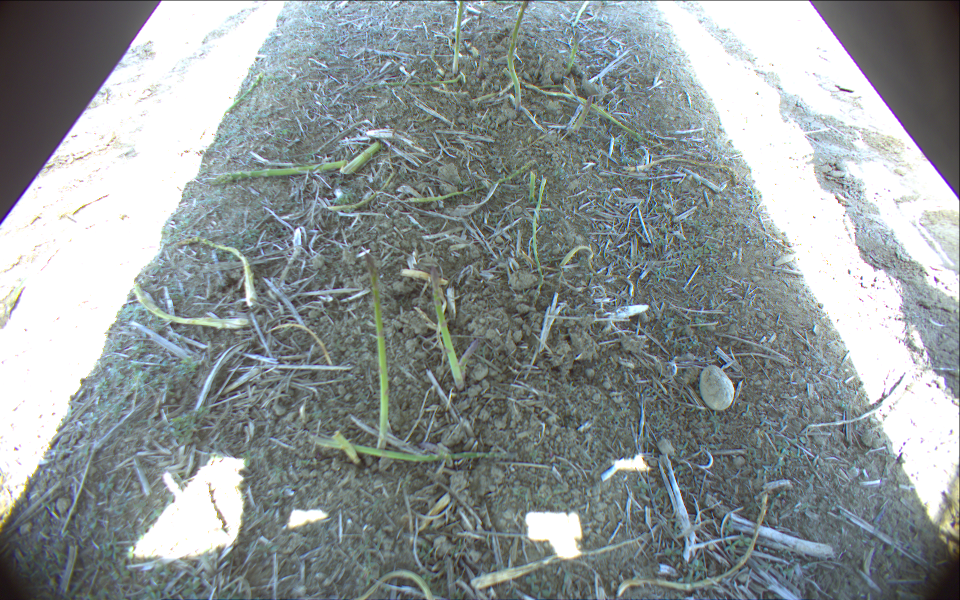aspa: (615, 492, 772, 600), (504, 69, 678, 155), (162, 236, 260, 305), (361, 248, 391, 451), (134, 278, 250, 329), (408, 160, 536, 203), (428, 263, 468, 391), (313, 439, 521, 461), (197, 72, 263, 141), (206, 160, 346, 185), (621, 159, 738, 187), (507, 1, 531, 116), (352, 571, 434, 600), (531, 177, 549, 296), (338, 141, 384, 176), (362, 76, 460, 91), (450, 1, 465, 76), (458, 340, 479, 380), (333, 430, 357, 464), (573, 94, 593, 133), (564, 31, 580, 72), (572, 1, 589, 29), (528, 171, 536, 205)
